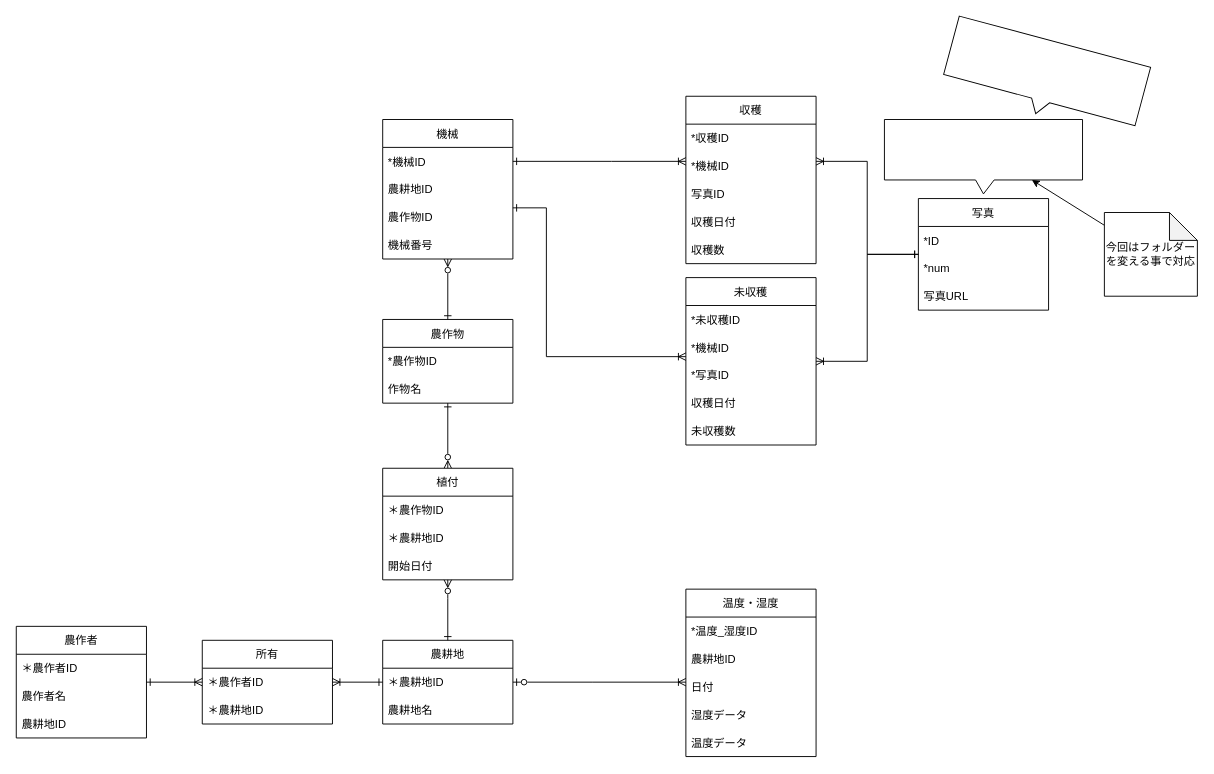
This 1214x774 diagram has some shape labels left out. Here are the shapes that lost their labels. From the top down, the centre of each, then its label:
point (1045, 77): 例：a1,b1など
point (983, 156): *収穫と未収穫の識別子が必要 （写真ID の区別がつかなくなる）*
